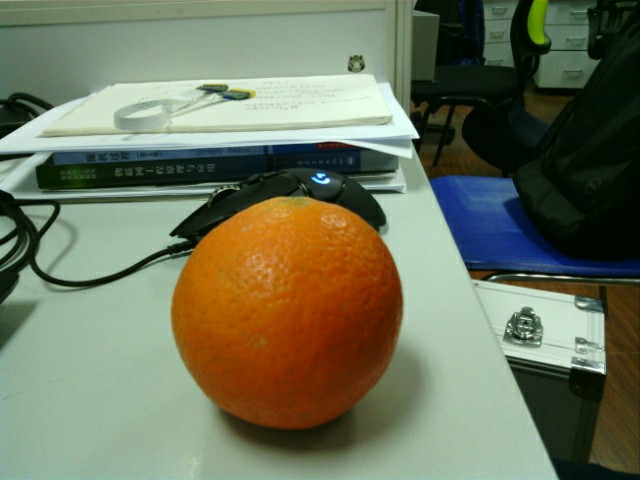normal_orange: (172, 195, 408, 427)
